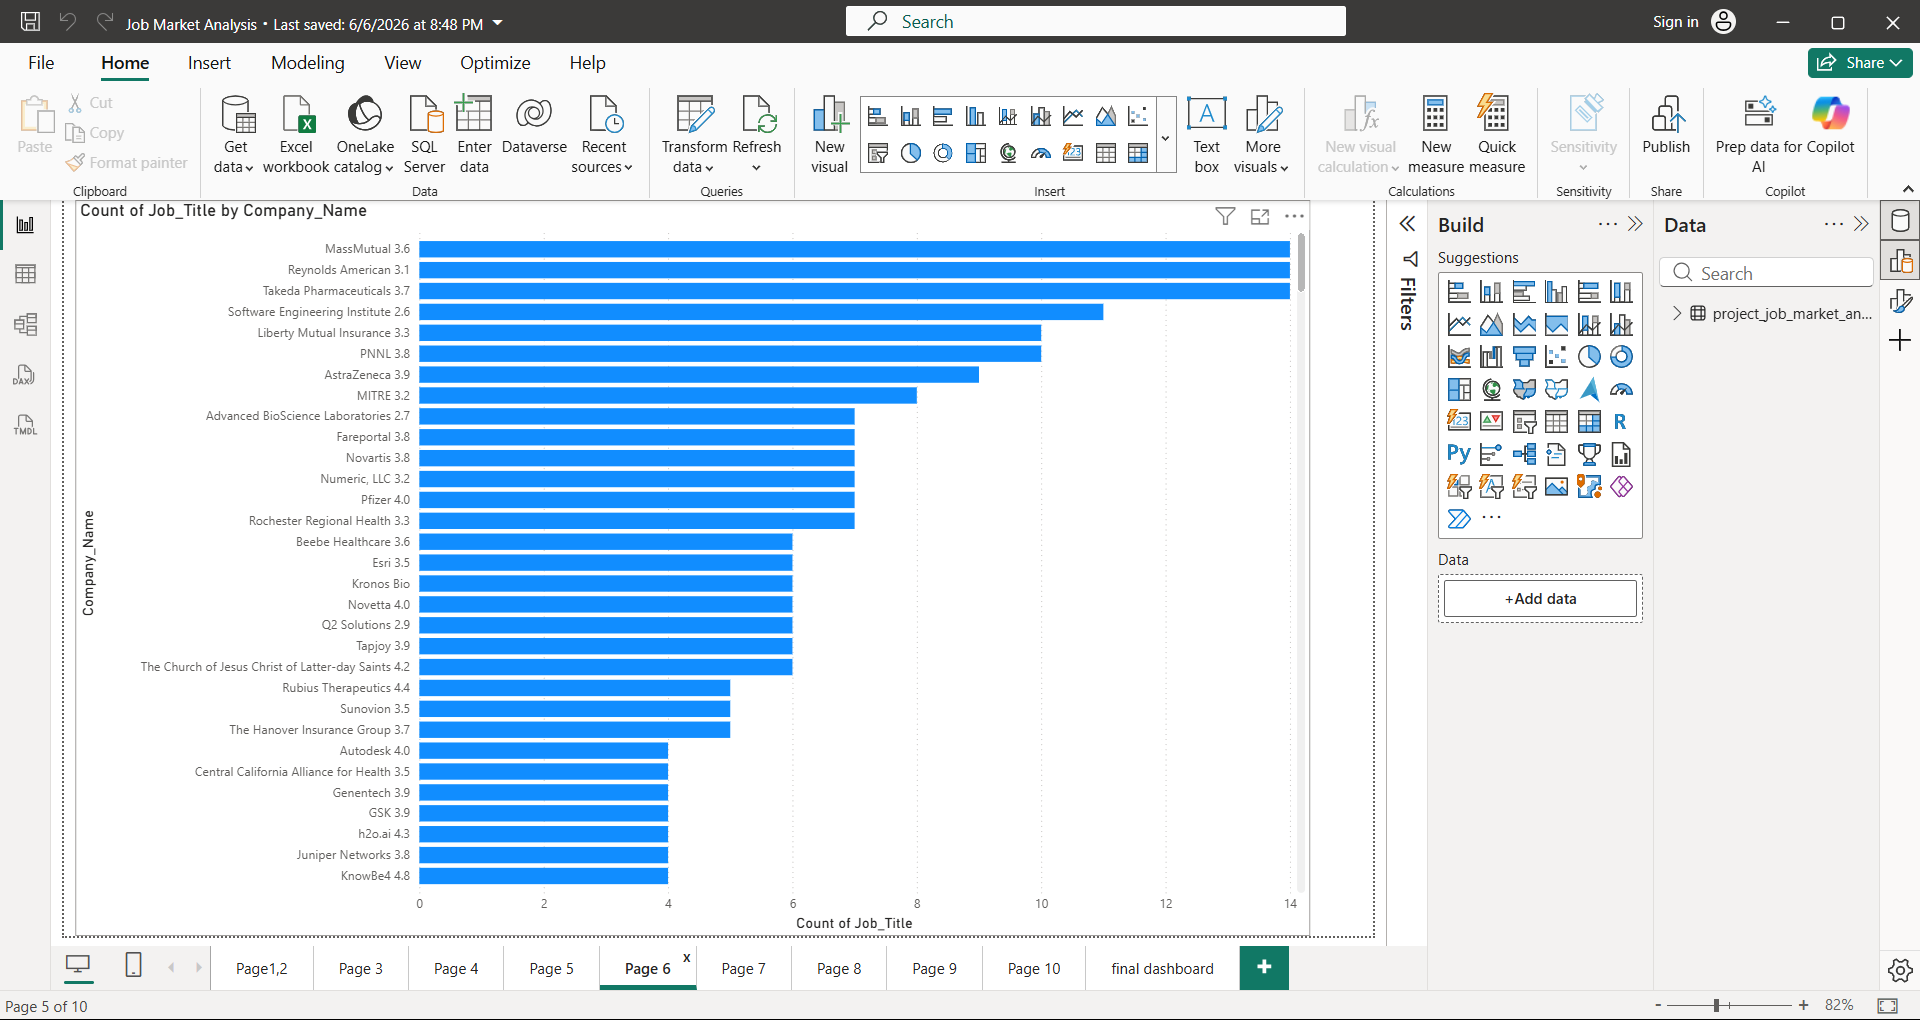

Layout of this report page (visuals, bound fields, positions):
{"tool":"powerbi","page":{"name":"Page 9","canvas":[1280,720],"ordinal":7},"visuals":[{"type":"clusteredBarChart","fields":{"Category":["project_job_market_analysis Market.Company_Name","project_job_market_analysis Market.Job_Title"],"Y":["Sum(project_job_market_analysis Market.spark)","Sum(project_job_market_analysis Market.sql_)","Sum(project_job_market_analysis Market.tableau)","Sum(project_job_market_analysis Market.tensor)"]},"box":[10.7,0,1269,720.8],"z":0}]}

Visuals, with their boxes on the page's 1280x720 design canvas (x1, y1, x2, y2). These are canvas units, not pixel positions in the 1920x1020 screenshot, which may show the page scaled, cropped or inside an application window:
clusteredBarChart - project_job_market_analysis Market.Company_Name x project_job_market_analysis Market.Job_Title: 11, 0, 1280, 721
